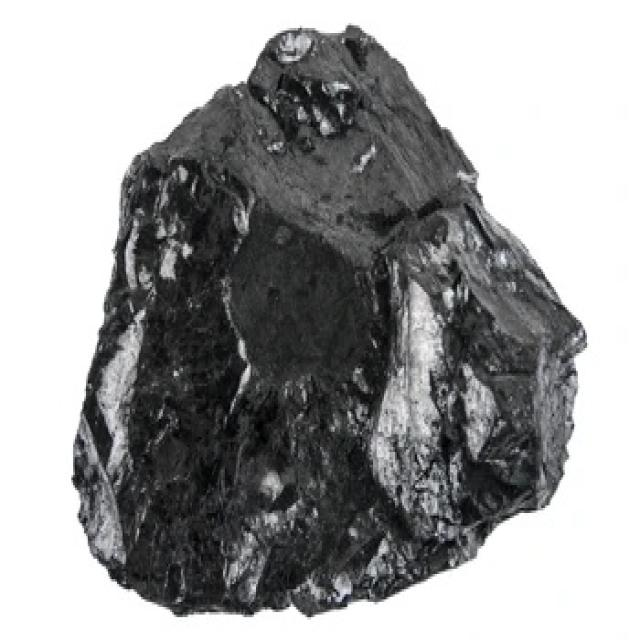Sedimentary: (69, 20, 582, 617)
